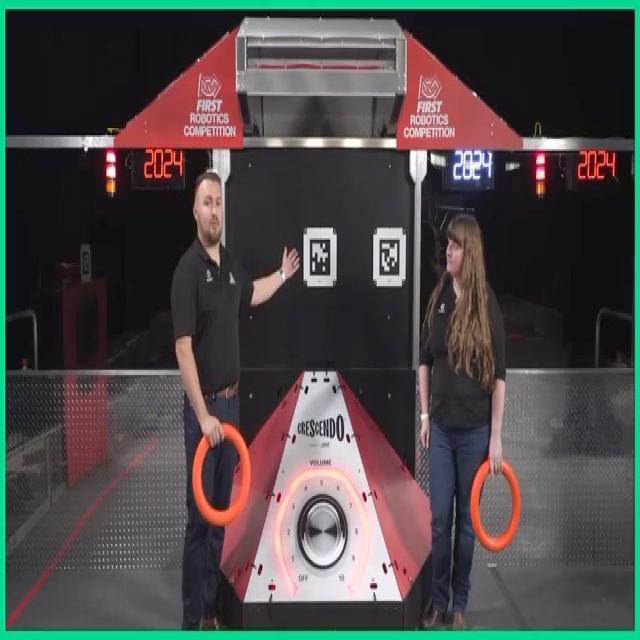note: (192, 420, 254, 528), (468, 458, 522, 554)
